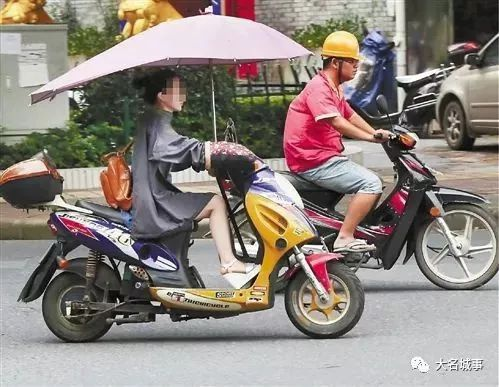non-vehicle: (0, 143, 367, 343), (291, 119, 498, 291)
